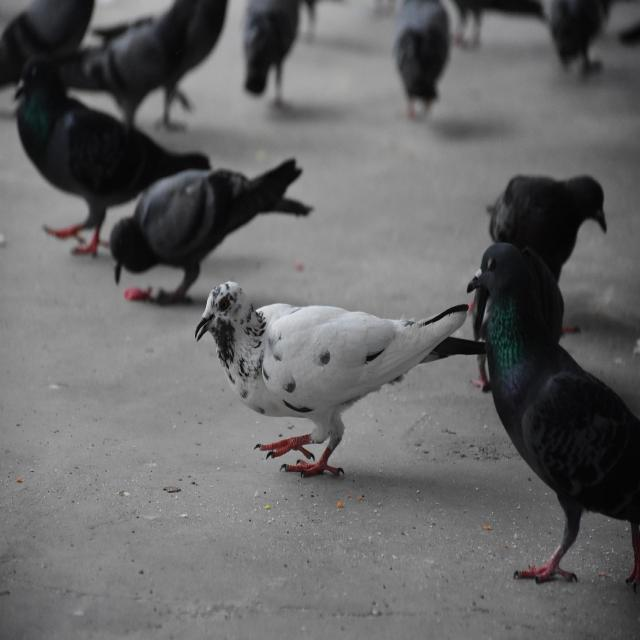pegion: (469, 209, 624, 525), (182, 262, 416, 447), (13, 59, 178, 180), (77, 194, 194, 261)
